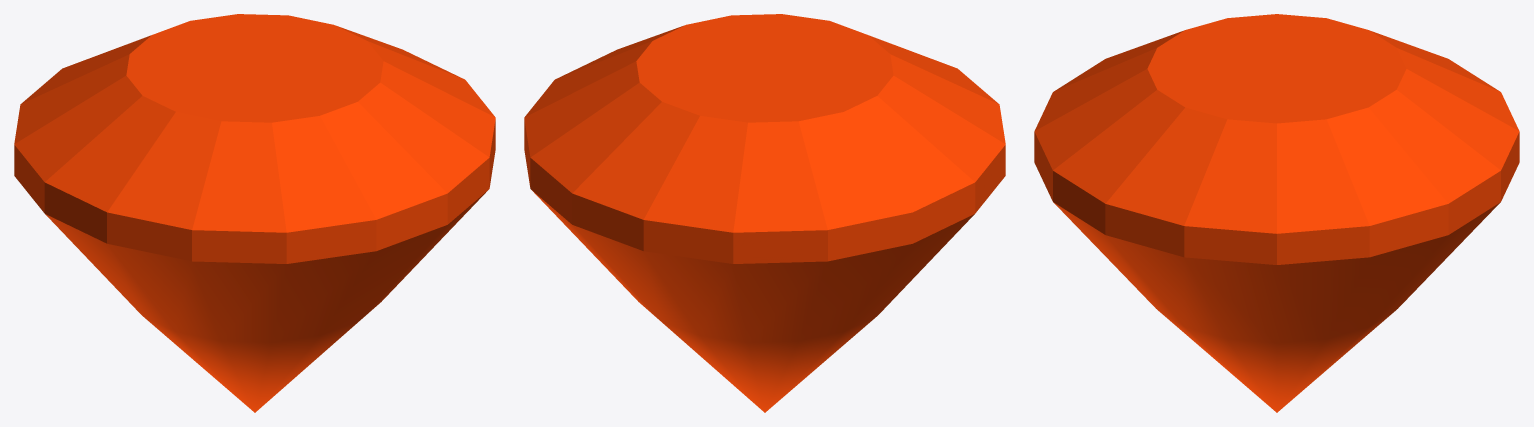
File: Orange Gem.FBX
3 renders of one model, left to right at view 1: azimuth 30°, elevation 25°; view 2: azimuth 150°, elevation 25°; view 3: azimuth 270°, elevation 25°, orthographic.
Visible parts, largest first — view 1: Orange Gem; view 2: Orange Gem; view 3: Orange Gem.
Part boxes in pixels (<box>): Orange Gem: <box>14,14,495,412</box>; Orange Gem: <box>524,14,1005,412</box>; Orange Gem: <box>1034,14,1519,412</box>.
Bounding box in the file's own units: 0.1 × 0.0783 × 0.1.
